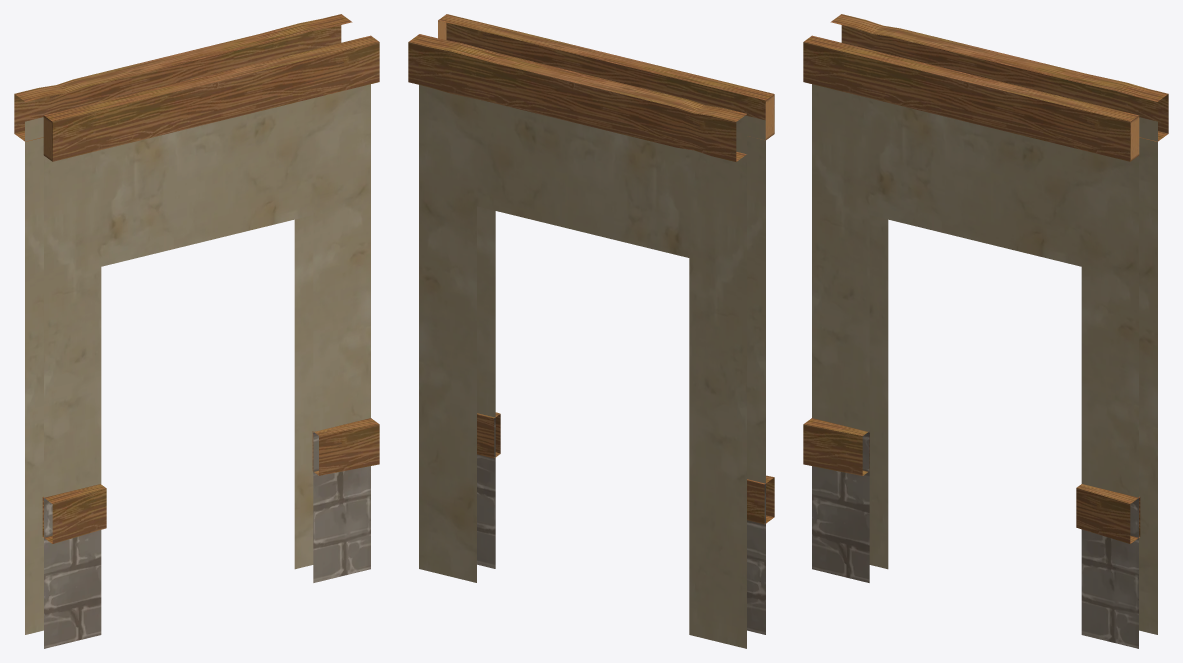
File: Wall_Plaster_Door_Flat.gltf
The picture shows the model from 3 angles, left to right: view 1: azimuth 30°, elevation 25°; view 2: azimuth 150°, elevation 25°; view 3: azimuth 330°, elevation 25°; orthographic projection.
Parts seen in each view (by area): view 1: Wall_Plaster_Door_Flat; view 2: Wall_Plaster_Door_Flat; view 3: Wall_Plaster_Door_Flat.
Part boxes in pixels (<box>): Wall_Plaster_Door_Flat: <box>14,14,379,648</box>; Wall_Plaster_Door_Flat: <box>408,14,774,648</box>; Wall_Plaster_Door_Flat: <box>803,14,1168,648</box>.
Bounding box in the file's own units: 2 × 3.12 × 0.4065.
Materials: 3 (3 with a texture image).
